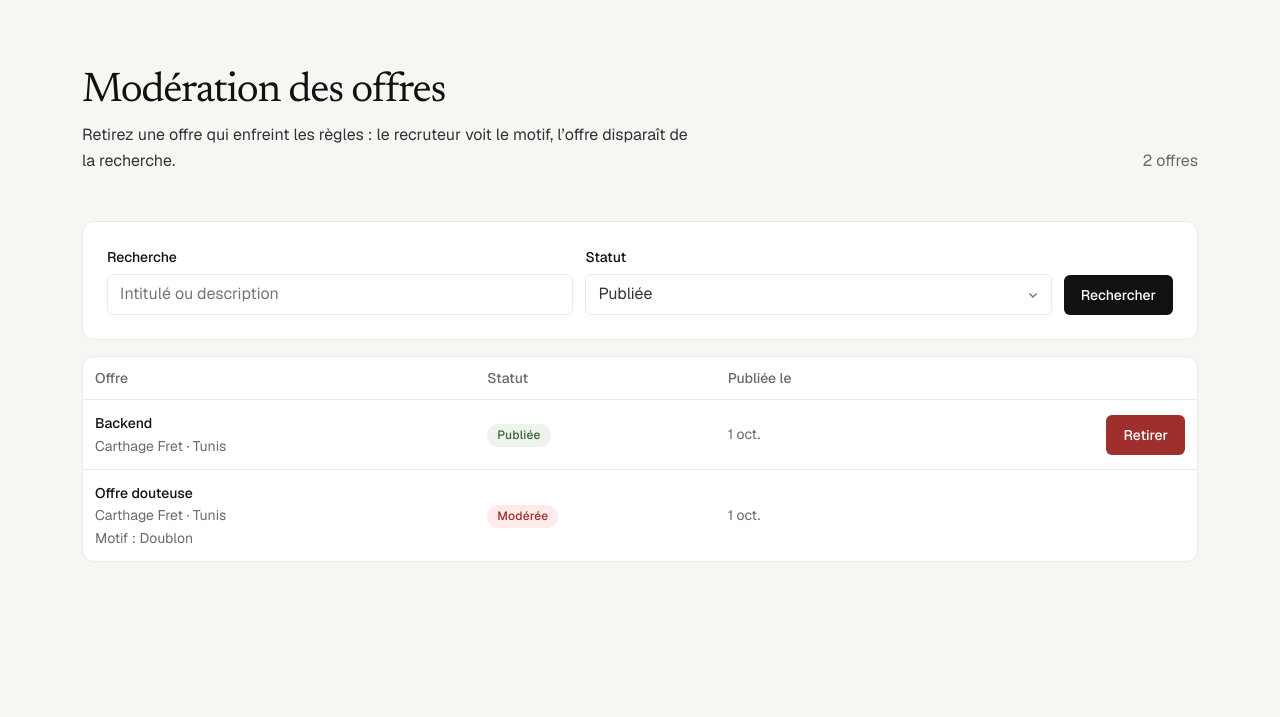
admin job moderation › withdraws the offer with the reason and refreshes the list
This screenshot has width=1280, height=717.
Click the button with aria-label "Retirer l’offre Backend": (1146, 435) [1106, 415, 1185, 455]
(page scrolled)
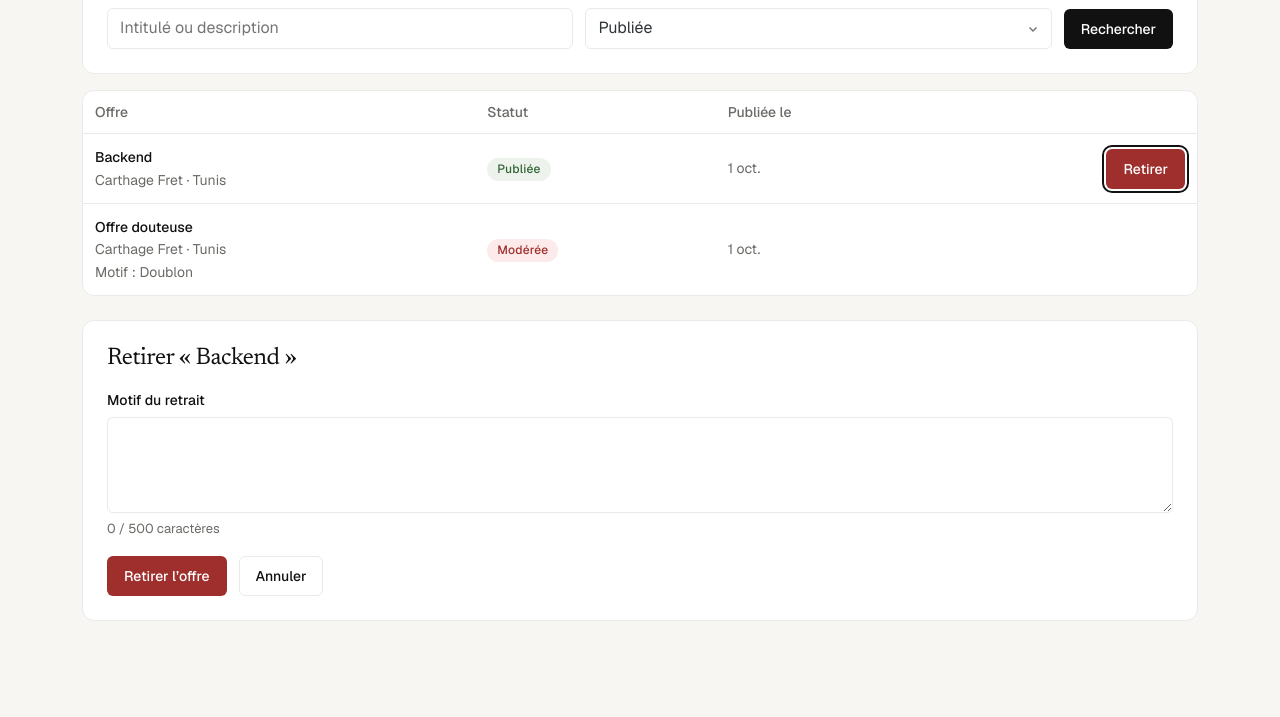
In the text box labelled "Motif du retrait": (640, 465) [107, 417, 1173, 513], type "  Annonce discriminatoire "
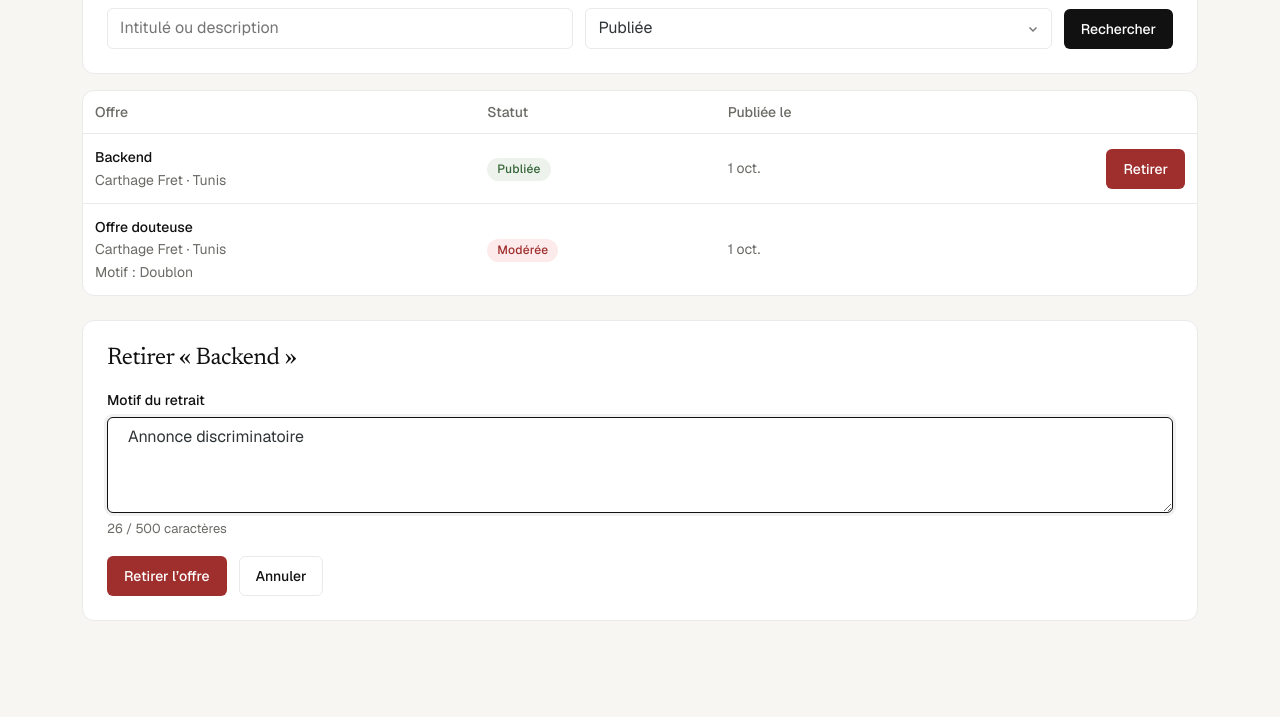
Click the button "Retirer l’offre": (167, 576) [107, 556, 226, 596]
(page scrolled)
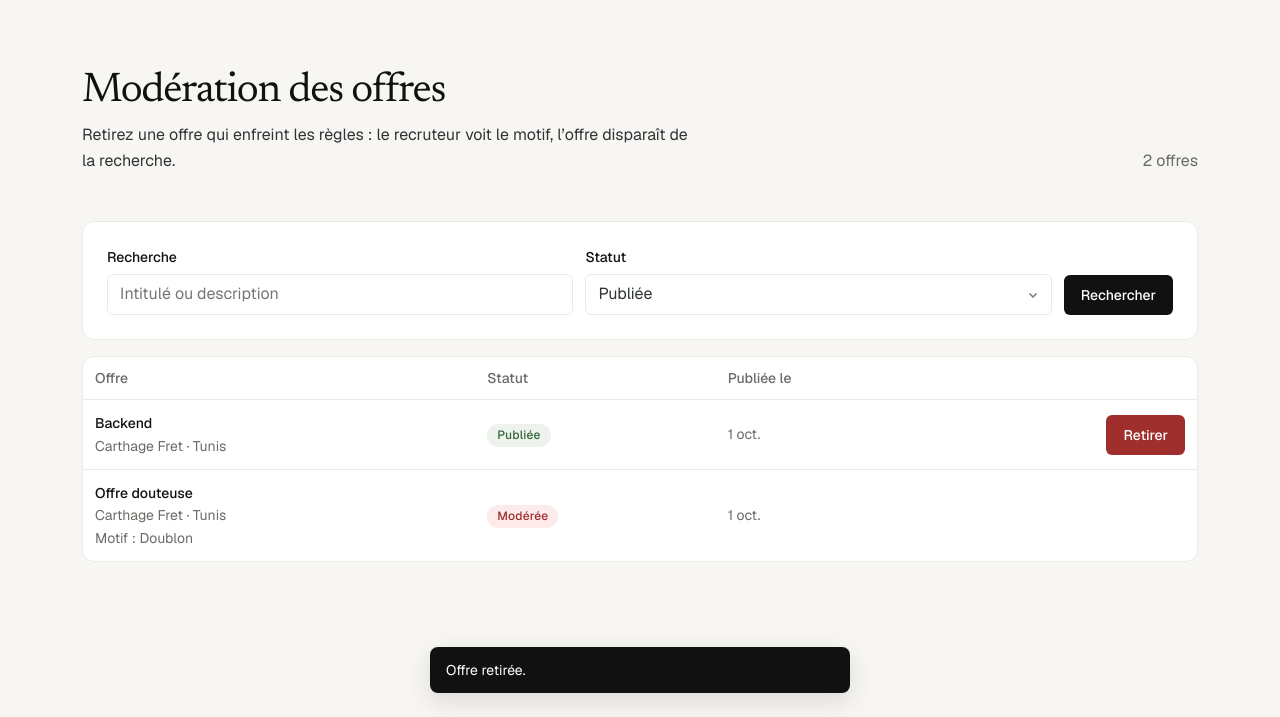
Result: the text "Offre retirée." is shown at [430, 647, 850, 693]
Result: the label labelled "Motif du retrait" is gone
